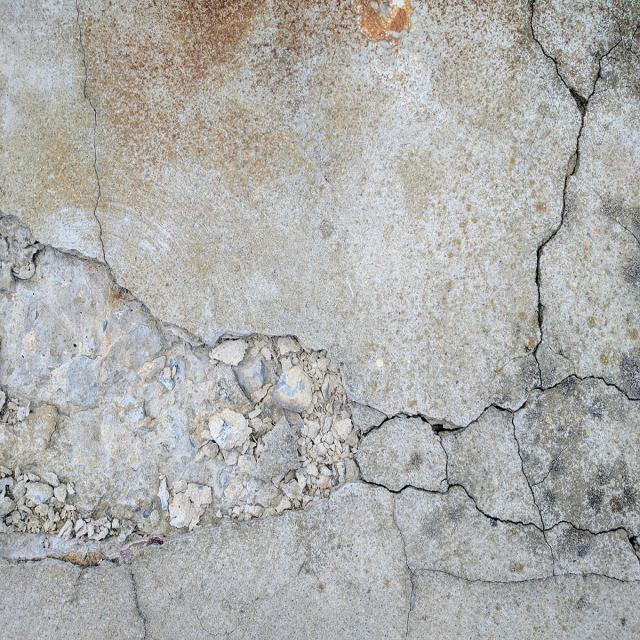Spalling: (0, 212, 388, 570)
